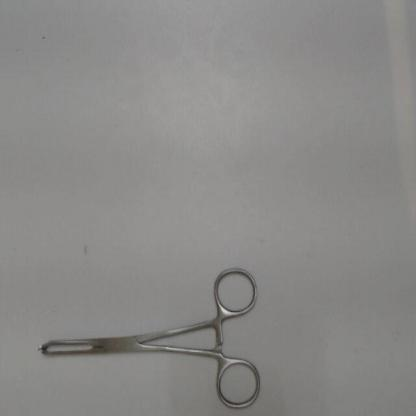Allis Tissue Forceps: (23, 257, 266, 414)
